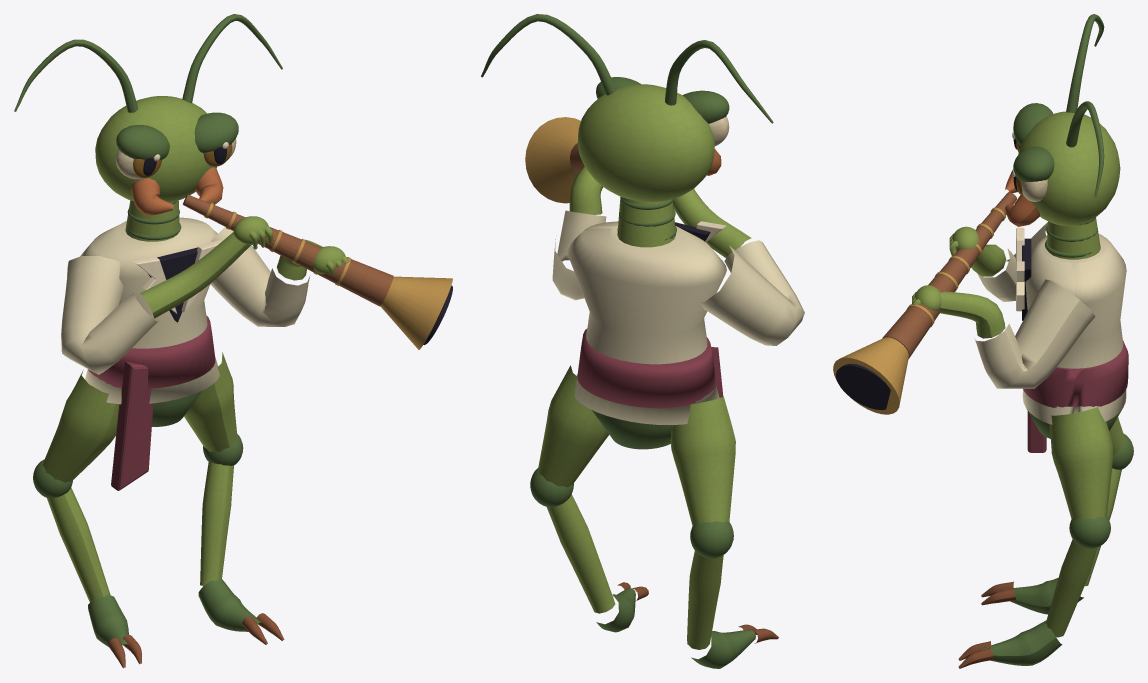
Rendered from obo.glb.
3 renders of one model, left to right at view 1: azimuth 30°, elevation 25°; view 2: azimuth 150°, elevation 25°; view 3: azimuth 270°, elevation 25°, orthographic. The views are drawn at different scales.
Parts seen in each view (by area): view 1: Bent jacket sleeve (×2), Linen jacket, Cricket thigh (×2), Head capsule, Shin (×2), Knotted sash end, Woodwind body, Burgundy sash, Woodwind bell, Tarsus (×2), Forearm, Heavy lid (×2) (+7 smaller); view 2: Linen jacket, Head capsule, Cricket thigh (×2), Bent jacket sleeve (×2), Burgundy sash, Shin (×2), Woodwind bell, Forearm (×2), Antenna (×2), Knee (×2), Tarsus (×2), Segmented neck (+2 smaller); view 3: Linen jacket, Bent jacket sleeve (×2), Head capsule, Cricket thigh, Burgundy sash, Woodwind body, Tarsus (×2), Shin (×2), Forearm (×2), Woodwind bell, Antenna (×2), Heavy lid (×2) (+9 smaller).
Part boxes in pixels (<box>): Bent jacket sleeve (×2): <box>61,227,310,374</box>; Linen jacket: <box>80,217,219,404</box>; Cricket thigh (×2): <box>42,352,236,482</box>; Head capsule: <box>95,96,216,202</box>; Shin (×2): <box>47,462,233,601</box>; Knotted sash end: <box>111,361,153,490</box>; Woodwind body: <box>183,194,393,306</box>; Burgundy sash: <box>88,315,215,388</box>; Woodwind bell: <box>380,276,452,349</box>; Tarsus (×2): <box>88,579,261,646</box>; Forearm: <box>140,232,250,318</box>; Heavy lid (×2): <box>116,112,238,159</box>; Linen jacket: <box>566,221,726,424</box>; Head capsule: <box>577,84,714,202</box>; Cricket thigh (×2): <box>538,365,735,525</box>; Bent jacket sleeve (×2): <box>552,210,804,345</box>; Burgundy sash: <box>577,328,715,408</box>; Shin (×2): <box>546,494,723,649</box>; Woodwind bell: <box>525,117,580,203</box>; Forearm (×2): <box>569,166,751,258</box>; Antenna (×2): <box>481,14,773,123</box>; Knee (×2): <box>530,468,733,558</box>; Tarsus (×2): <box>596,588,755,668</box>; Segmented neck: <box>617,197,675,247</box>; Linen jacket: <box>1022,234,1126,424</box>; Bent jacket sleeve (×2): <box>974,222,1095,388</box>; Head capsule: <box>1018,111,1120,226</box>; Cricket thigh: <box>1049,406,1113,519</box>; Burgundy sash: <box>1023,340,1128,407</box>; Woodwind body: <box>882,192,1016,359</box>; Tarsus (×2): <box>981,577,1083,665</box>; Shin (×2): <box>1045,468,1121,637</box>; Forearm (×2): <box>939,244,1006,338</box>; Woodwind bell: <box>833,337,908,414</box>; Antenna (×2): <box>1066,14,1104,197</box>; Heavy lid (×2): <box>1013,103,1054,181</box>.
Size of the model in its own units: 1.82 by 3.13 by 1.45.
14 materials, 14 textured.
